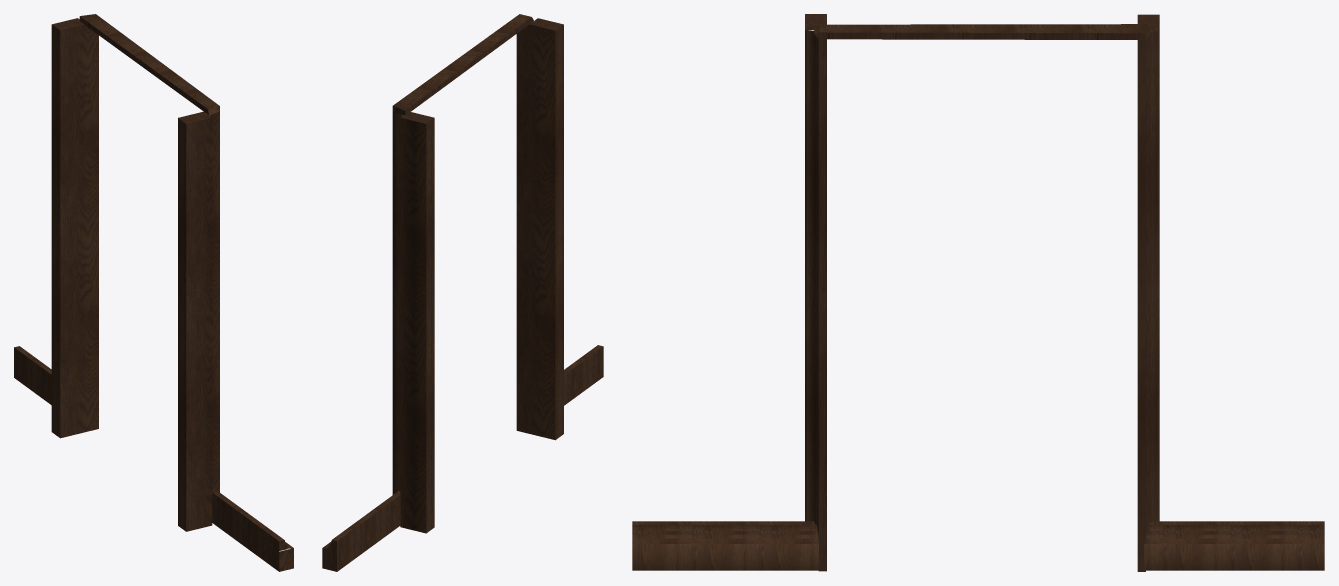
Rendered from soupdoortrim004.glb.
3 renders of one model, left to right at view 1: azimuth 30°, elevation 25°; view 2: azimuth 150°, elevation 25°; view 3: azimuth 270°, elevation 25°, orthographic. The views are drawn at different scales.
Parts seen in each view (by area): view 1: soupdoortrim004_high_1; view 2: soupdoortrim004_high_1; view 3: soupdoortrim004_high_1.
Boxes of the visible parts, x1,y1,x2,y2 form: soupdoortrim004_high_1: (14, 14, 293, 571); soupdoortrim004_high_1: (322, 14, 603, 571); soupdoortrim004_high_1: (632, 14, 1324, 571).
Size of the model in its own units: 0.2435 by 2.32 by 2.7.
1 material, 1 textured.
